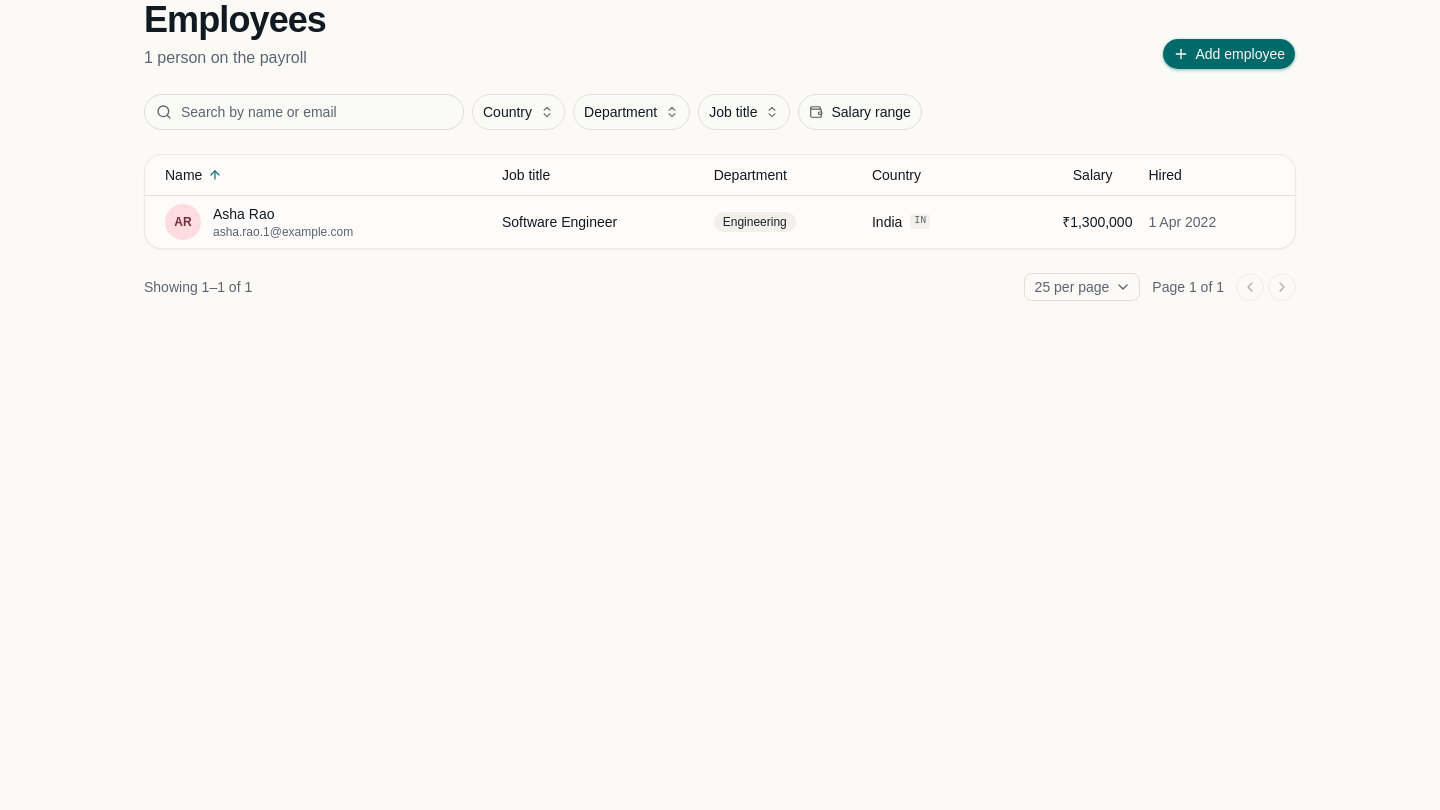
Test: employee list › choosing {} "Account Executive" filters the list
The width and height of the screenshot is (1440, 810).
Check: the button "Asha Rao" is shown, box [213,204,274,224]
Click the dropdown labelled "Job title". click: {"x": 744, "y": 112}
box: [698,94,790,130]
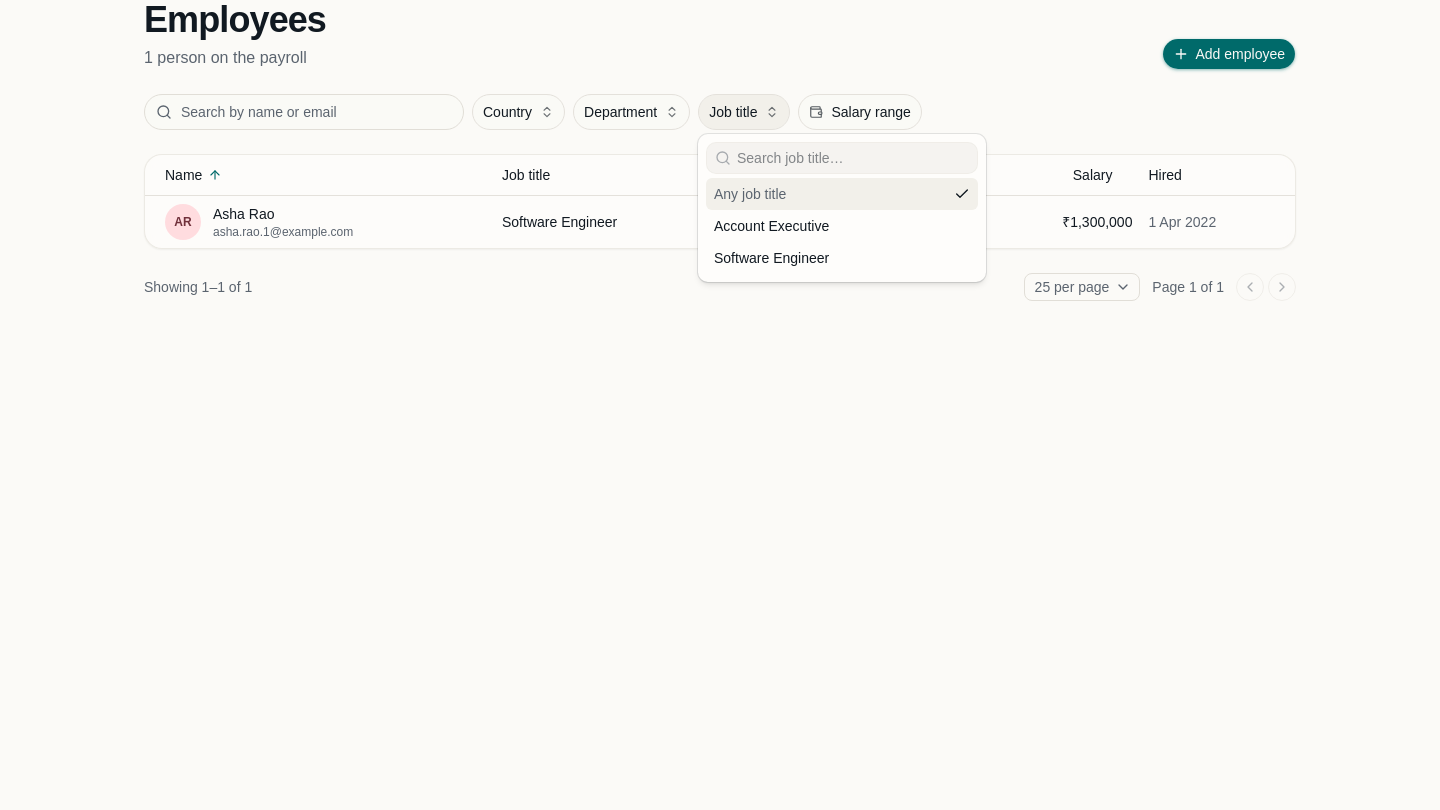
Click the option "Account Executive". click: {"x": 772, "y": 226}
box: [714,218,829,234]
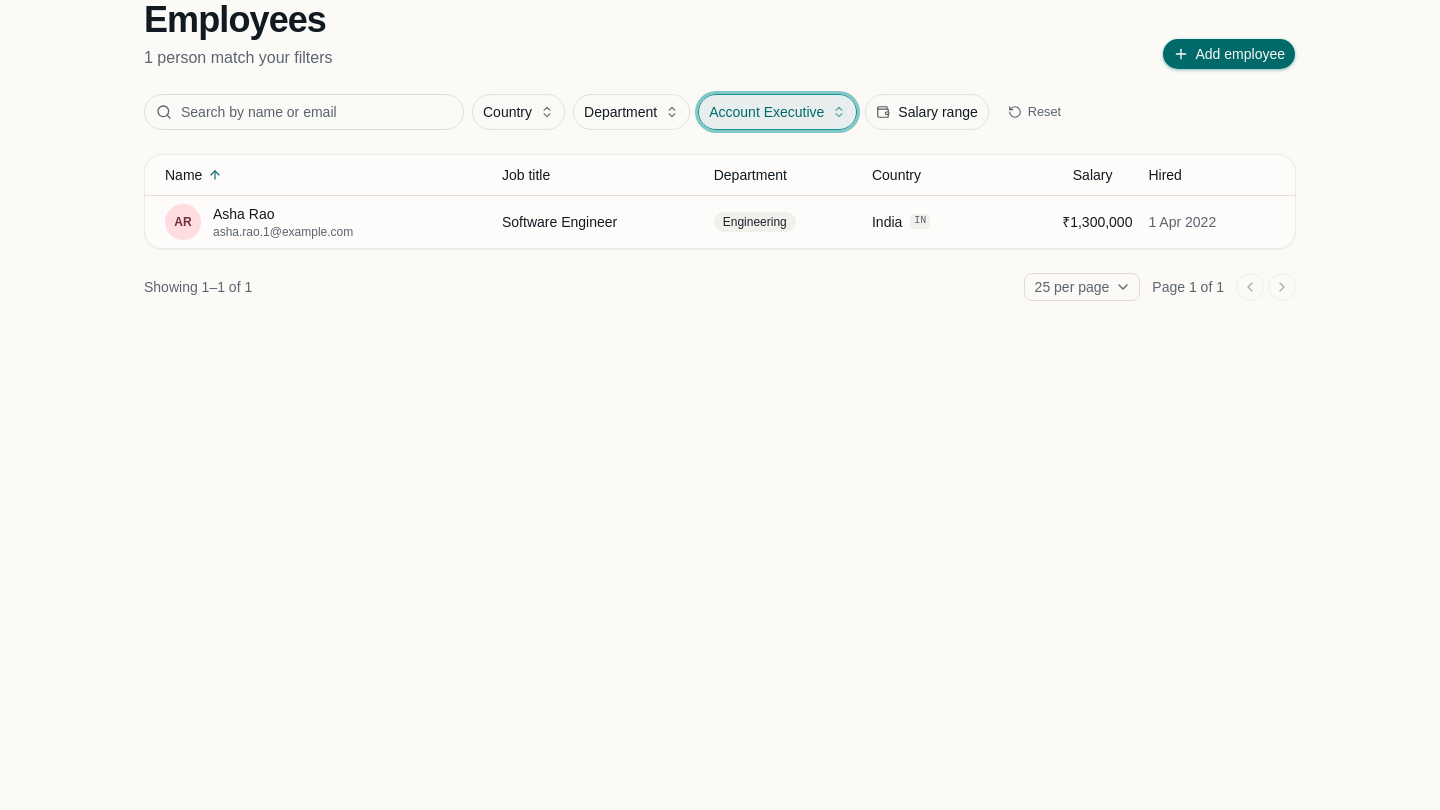
Check: the text "Account Executive" is shown, box [709,102,824,122]
